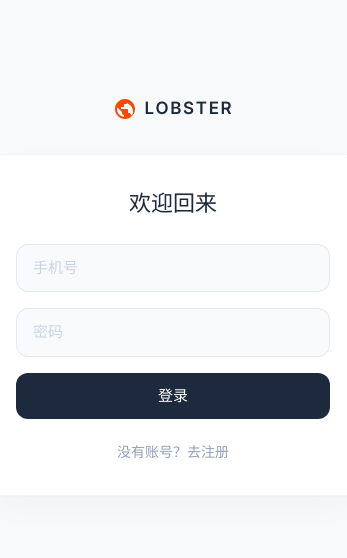
Test: LoginPage › maps backend validation detail to friendly register message
This screenshot has width=347, height=558.
Click the button "没有账号？去注册".
click(173, 452)  # box [117,441,229,462]
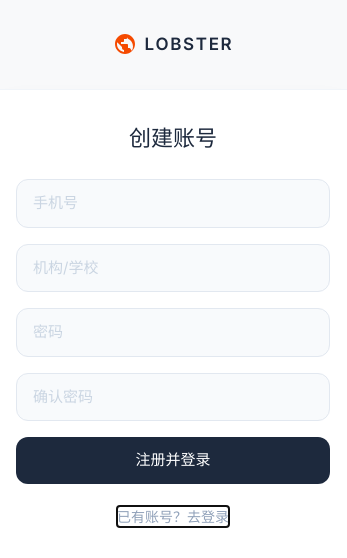
Type "13800138000" into the field with placeholder "手机号".
click(173, 203); type("13800138000")  # box [16,179,330,228]
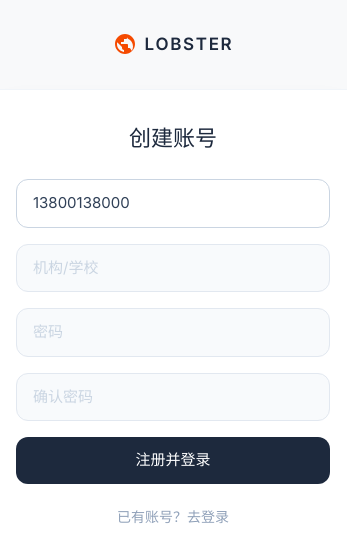
Type "Test University" into the field with placeholder "机构/学校".
click(173, 268); type("Test University")  # box [16,244,330,292]
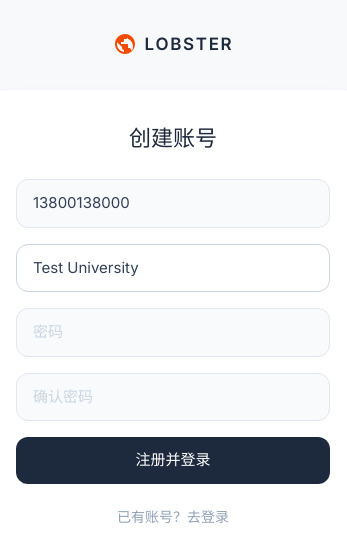
Type "secret123" into the password field with placeholder "密码".
click(173, 332); type("secret123")  # box [16,308,330,356]
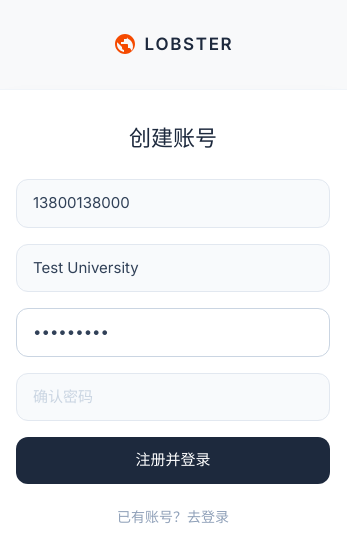
Type "secret123" into the password field with placeholder "确认密码".
click(173, 397); type("secret123")  # box [16,372,330,421]
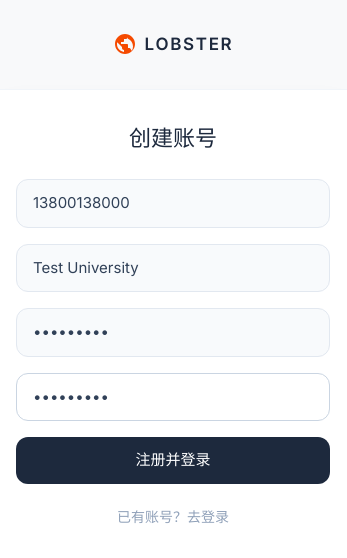
Click the button "注册并登录".
click(173, 460)  # box [16,437,330,484]
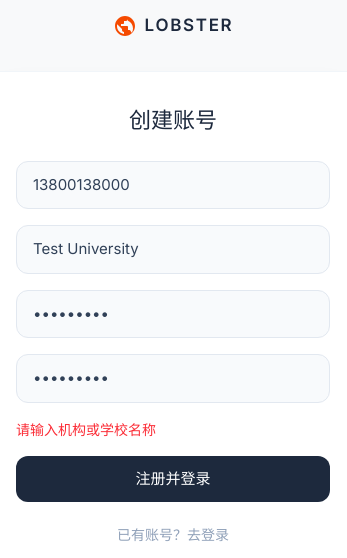
Check: the text "请输入机构或学校名称" is shown, box [16,420,156,438]
